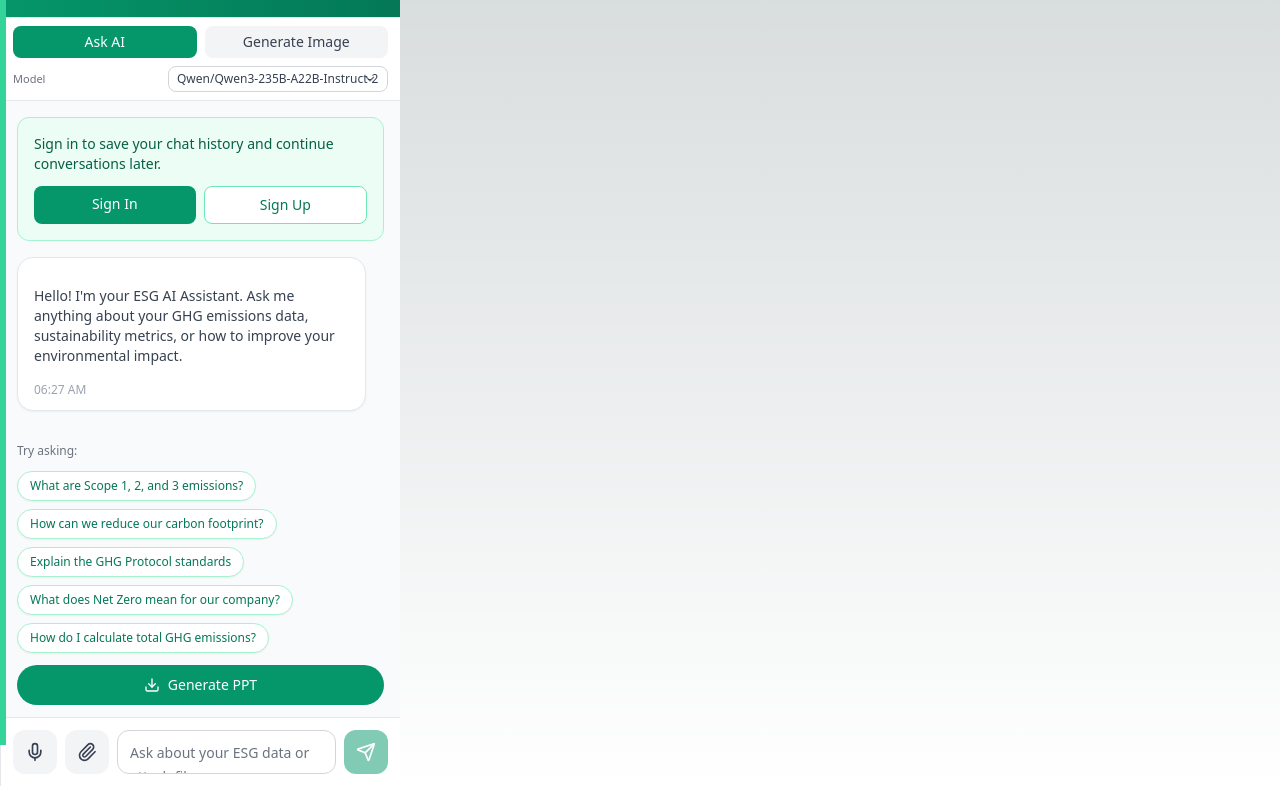
AISidebar voice input integration › keeps the composer unchanged when the recorder is cancelled
(page scrolled)
In the text box with placeholder "Ask about your ESG data or attach files...": (226, 752) [117,730,336,774], type "Existing prompt"
(page scrolled)
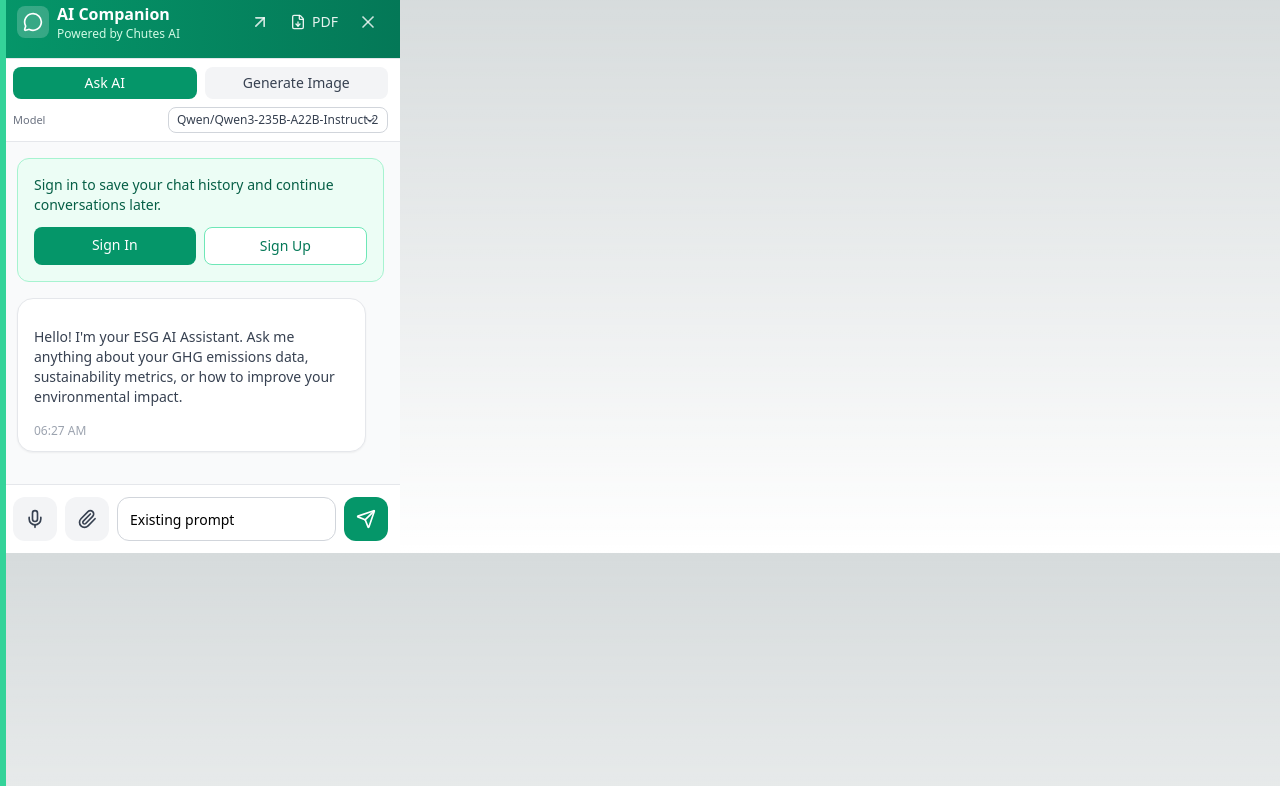
Click the button named "Open voice recorder": (35, 519) [13,497,57,541]
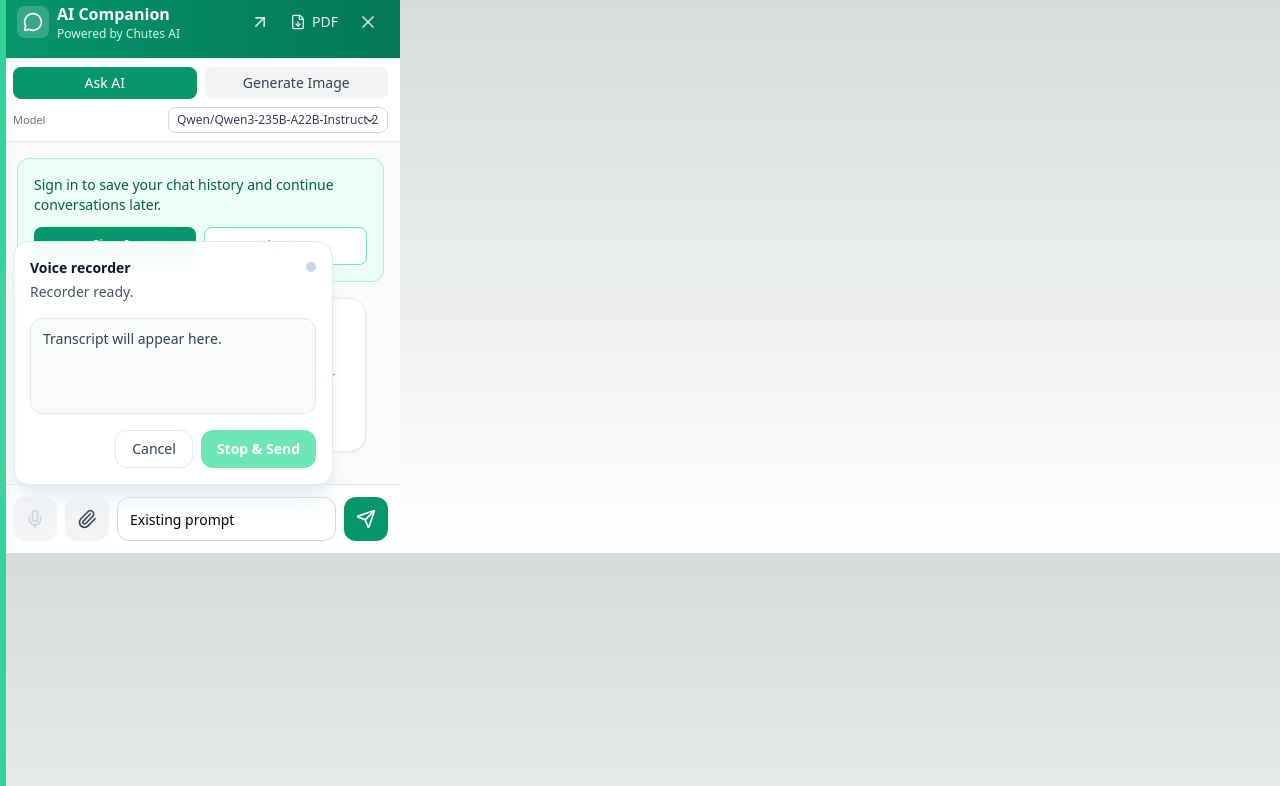
Click the button with aria-label "Cancel recording": (154, 449) [115,430,193,468]
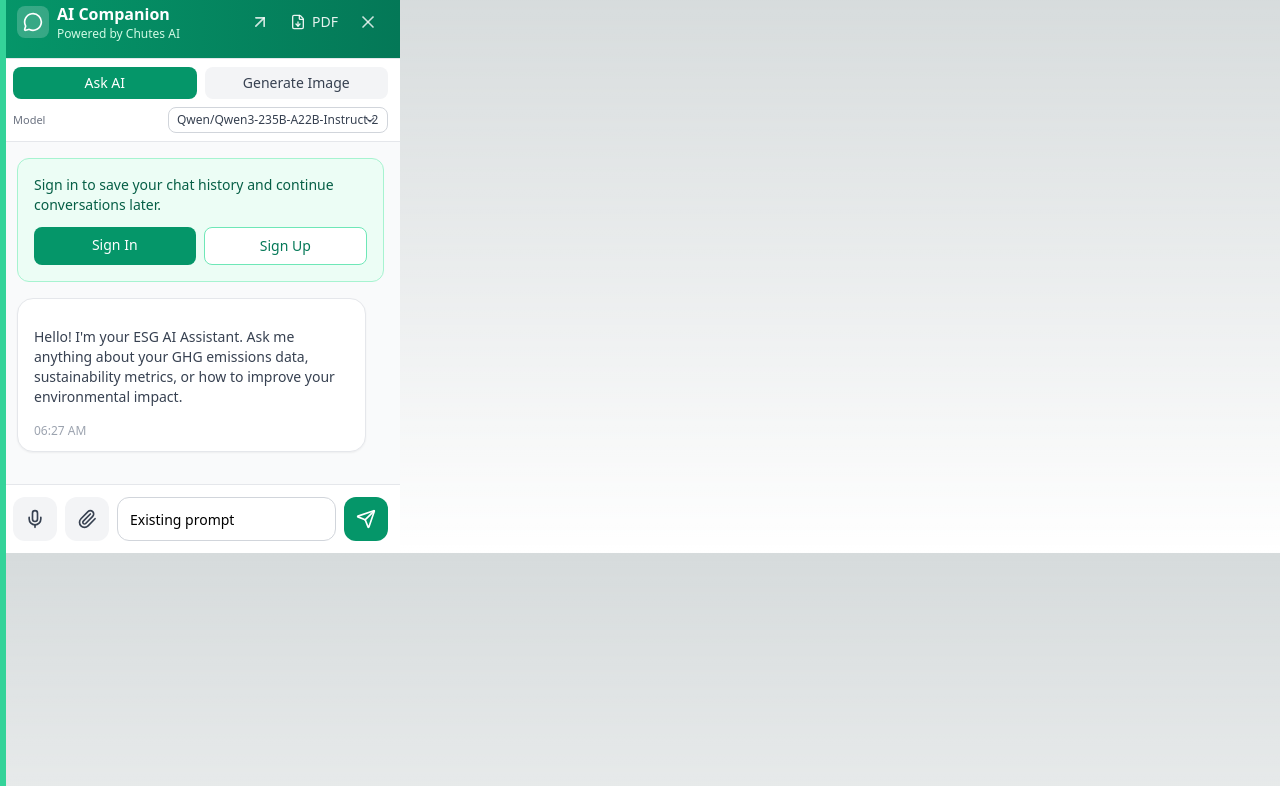
Check: the text "Voice recorder" is gone
